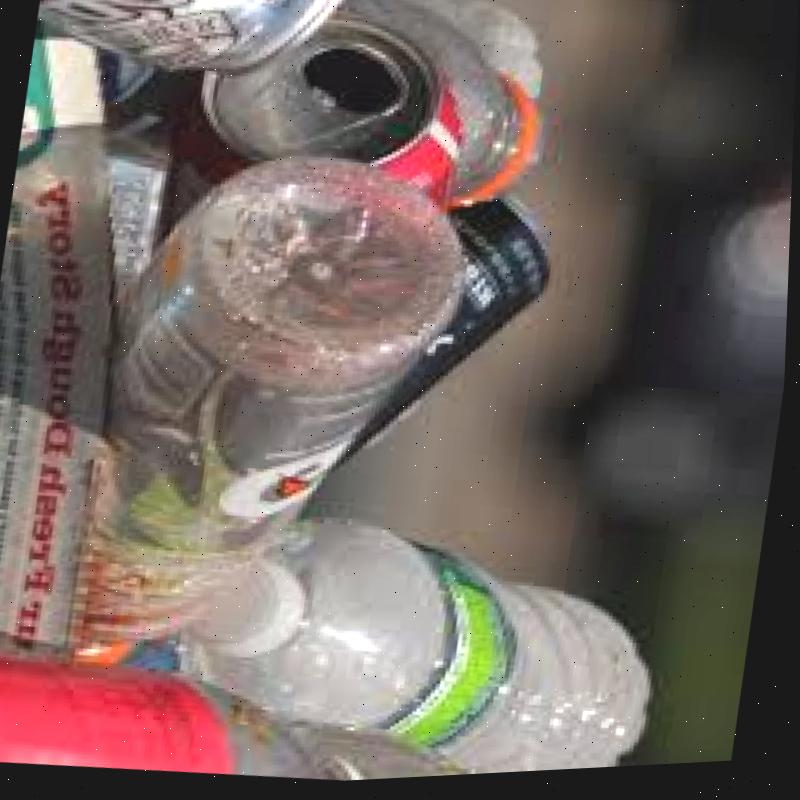botella: (77, 133, 485, 707), (173, 488, 681, 792)
